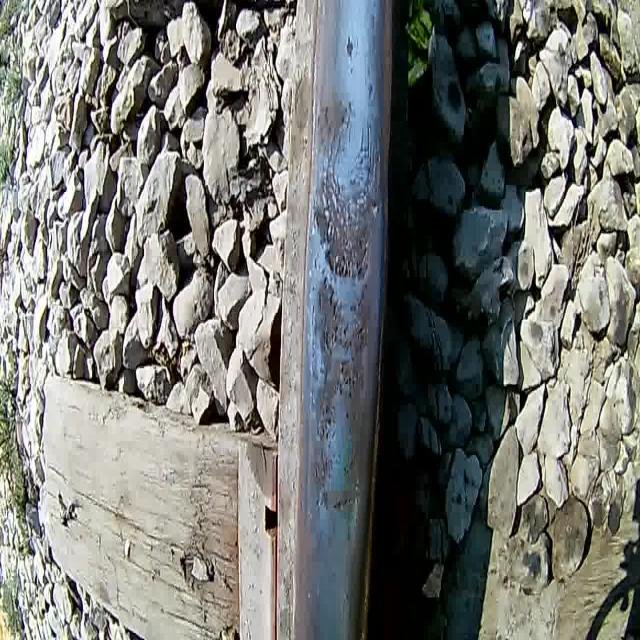Cracks: (323, 96, 355, 195), (355, 118, 381, 196)
Spallings: (312, 201, 381, 283), (312, 286, 373, 350), (314, 394, 338, 445), (333, 355, 364, 394), (331, 489, 366, 521), (312, 448, 334, 480)
Squats: (312, 92, 354, 157), (340, 28, 362, 78)
